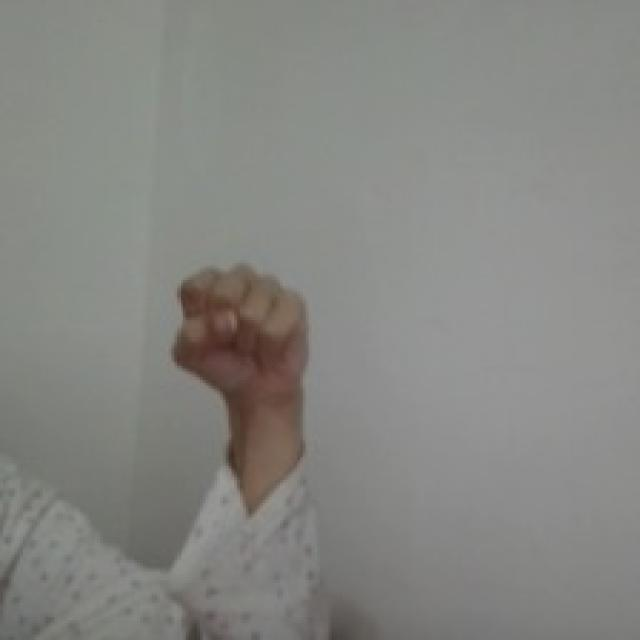yes: (165, 259, 316, 400)
